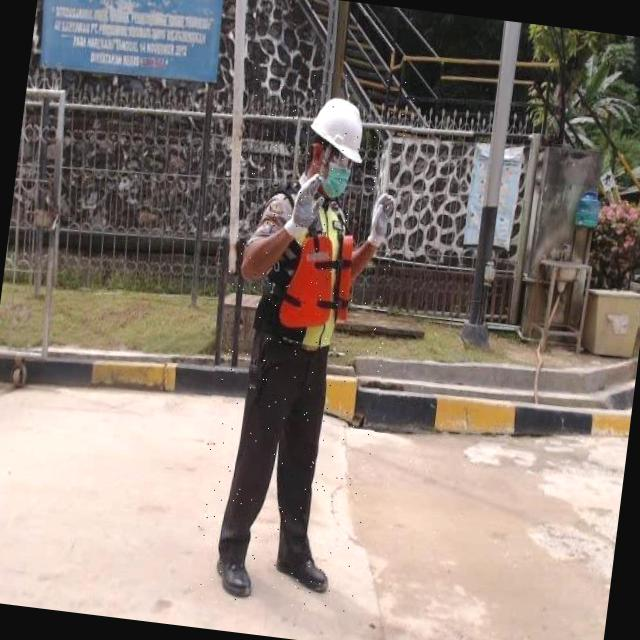boots: (268, 538, 342, 599), (209, 550, 262, 607)
gloves: (280, 170, 340, 252), (354, 175, 404, 256)
helmet: (302, 89, 376, 168)
vest: (258, 186, 372, 357)
